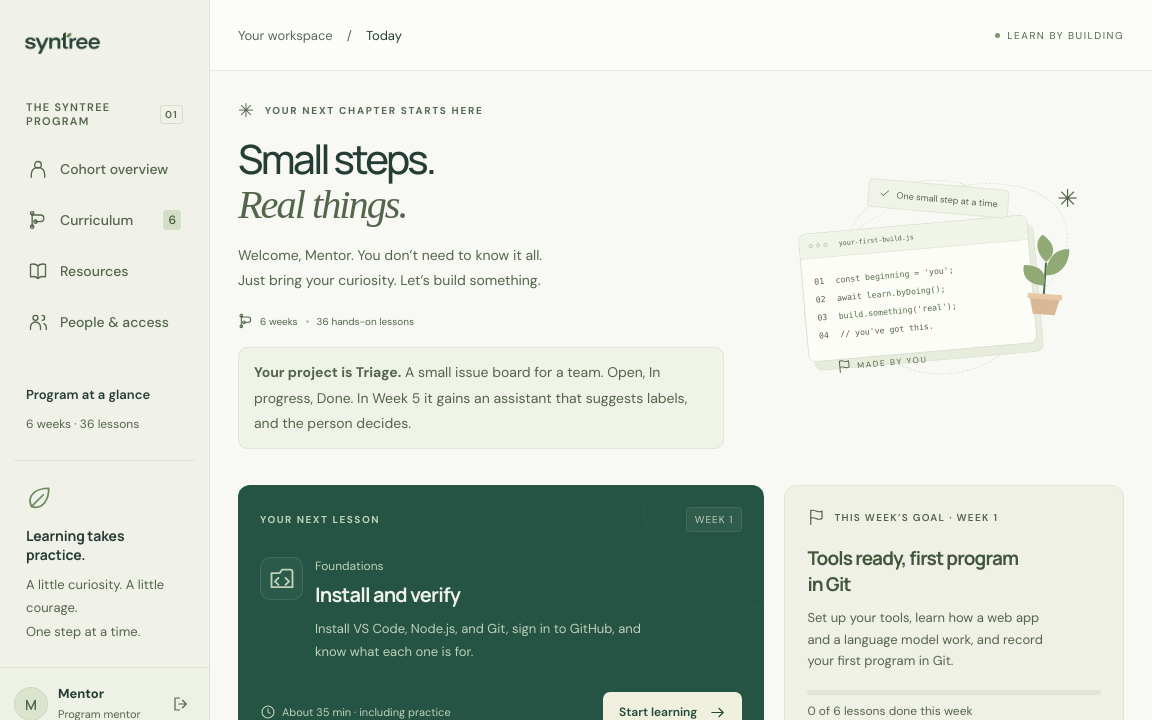
Test: App › shows mentor navigation and logs out
The image size is (1152, 720).
Check: the text "Mentor" is shown, box [58, 685, 104, 702]
Check: the link with aria-label "mentor workspace" is shown, box [28, 159, 168, 179]
Click the button named "log out".
click(181, 704)  # box [167, 690, 195, 718]
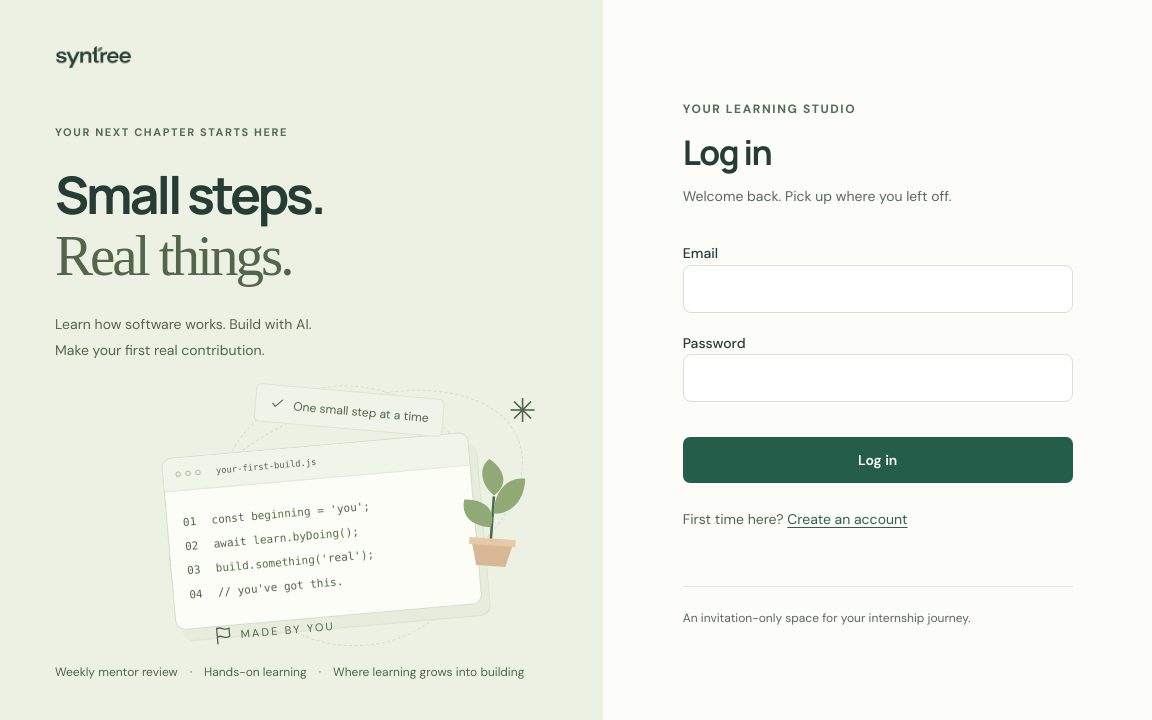
Check: the heading "Log in" is shown, box [683, 129, 771, 175]
